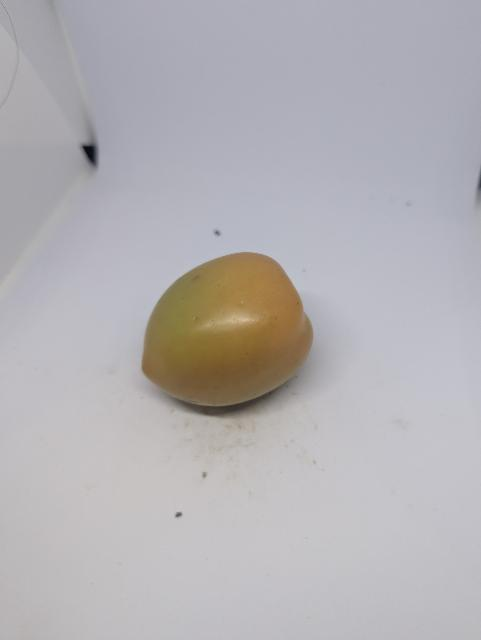turning: (142, 252, 313, 406)
